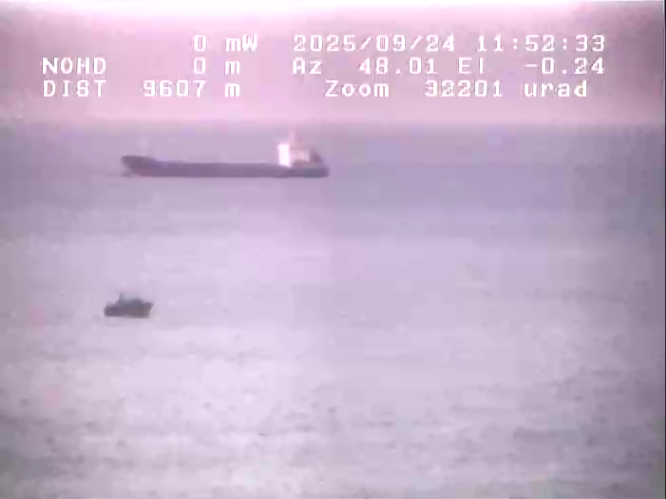TANKER: (111, 112, 348, 180)
TUGS: (100, 276, 159, 339)
